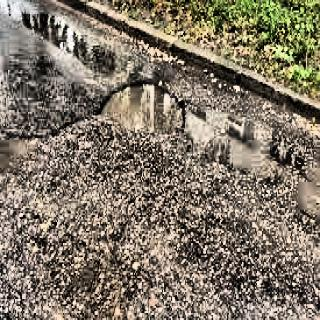pothole: (93, 78, 187, 138)
